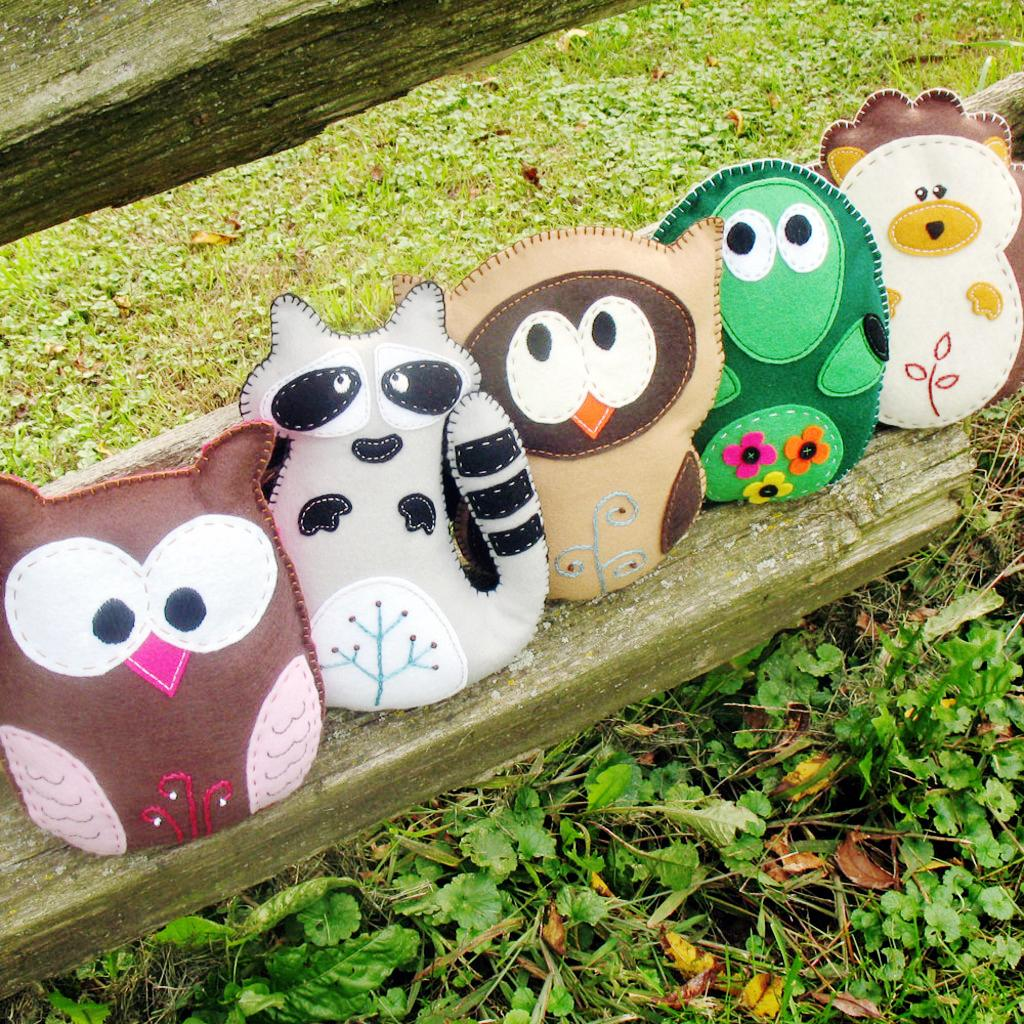Owl: (0, 416, 332, 861), (404, 208, 754, 606)
